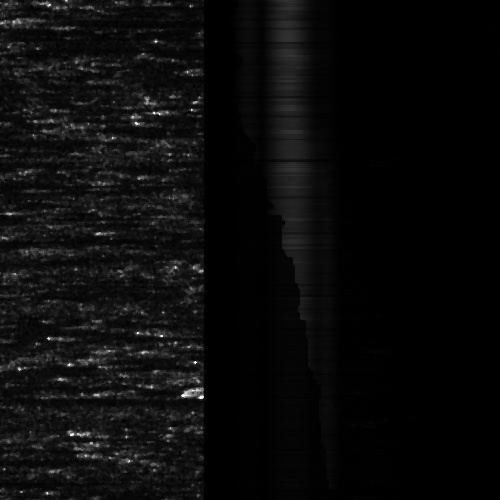object: (0, 395, 73, 408)
shadow: (0, 329, 126, 346), (0, 395, 145, 408), (0, 234, 209, 243), (0, 382, 66, 389), (0, 452, 41, 463)
